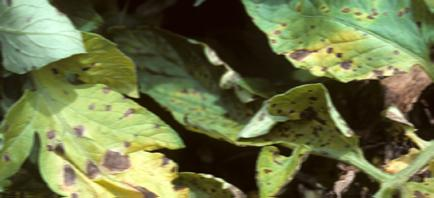Tomato Septoria leaf spot: (14, 60, 201, 198), (228, 0, 434, 90), (230, 80, 385, 188)
